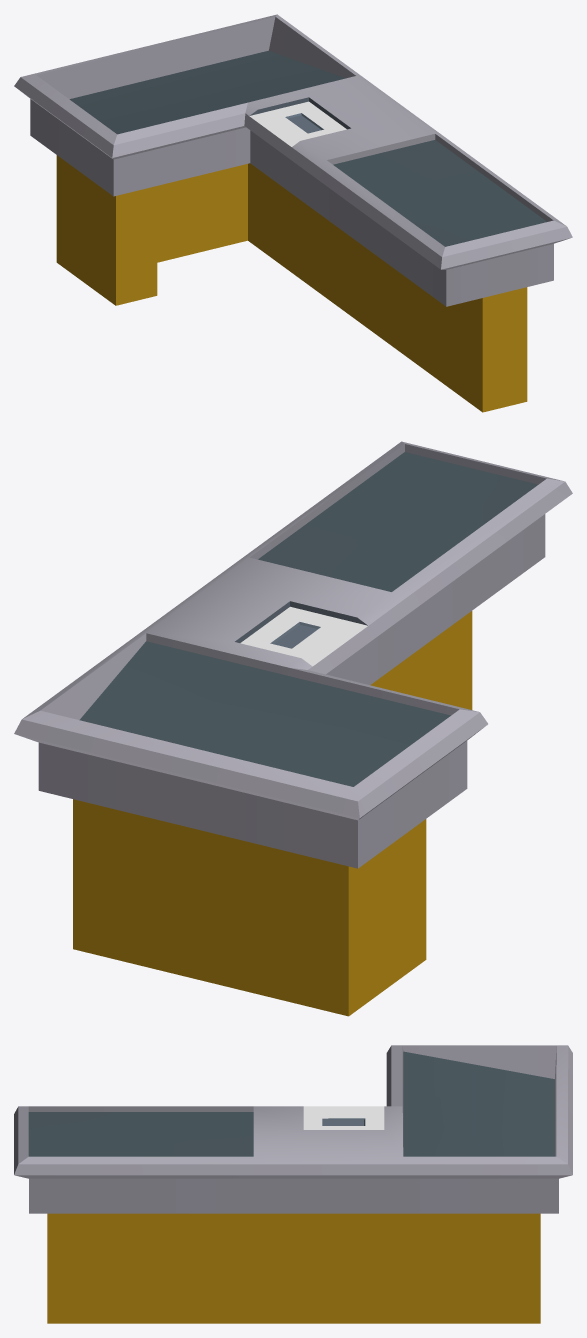
File: Table01.fbx
The picture shows the model from 3 angles, top to bottom: view 1: azimuth 30°, elevation 25°; view 2: azimuth 150°, elevation 25°; view 3: azimuth 270°, elevation 25°; orthographic projection. The views are drawn at different scales.
Parts seen in each view (by area): view 1: Table; view 2: Table; view 3: Table.
Part boxes in pixels (x1,y1,x2,y2): Table: [14, 14, 572, 412]; Table: [14, 441, 572, 1016]; Table: [14, 1045, 572, 1323].
Size of the model in its own units: 63.16 by 42.1 by 122.
